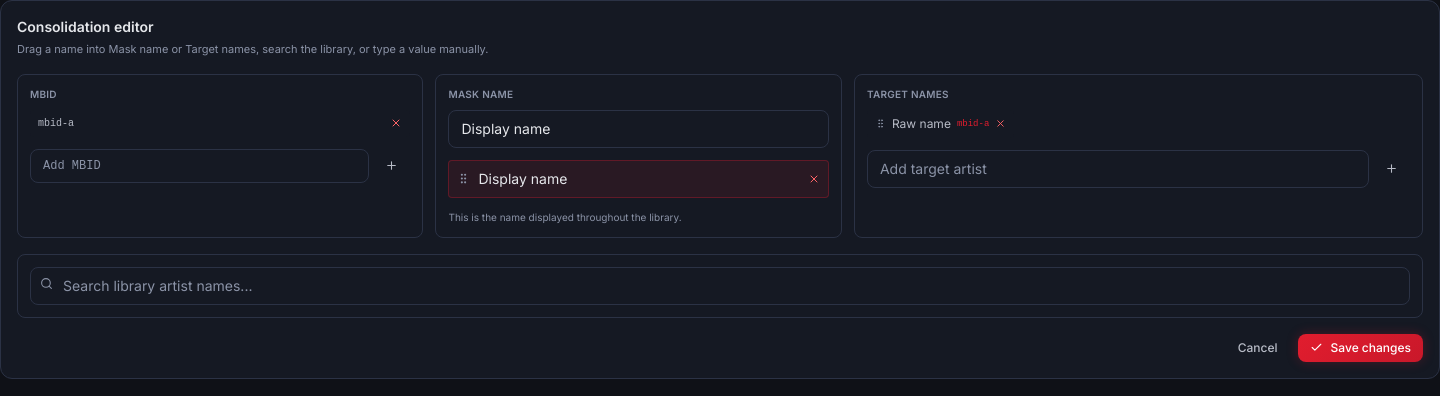
Scenario: ConsolidationColumnsEditor › removing the final name attached to an MBID clears that MBID
This screenshot has width=1440, height=396.
Click the button named "Remove target Raw name" at x=1001, y=124, box [995, 118, 1006, 129]
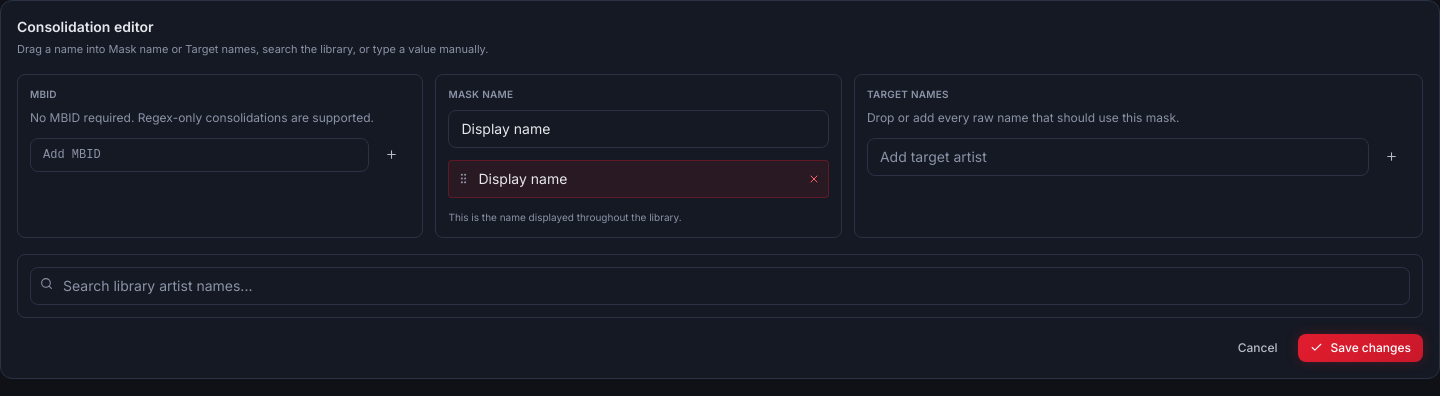
Check: the field with placeholder "Visible artist name" holds "Display name", box [448, 110, 829, 148]
Check: the text "mbid-a" is gone
